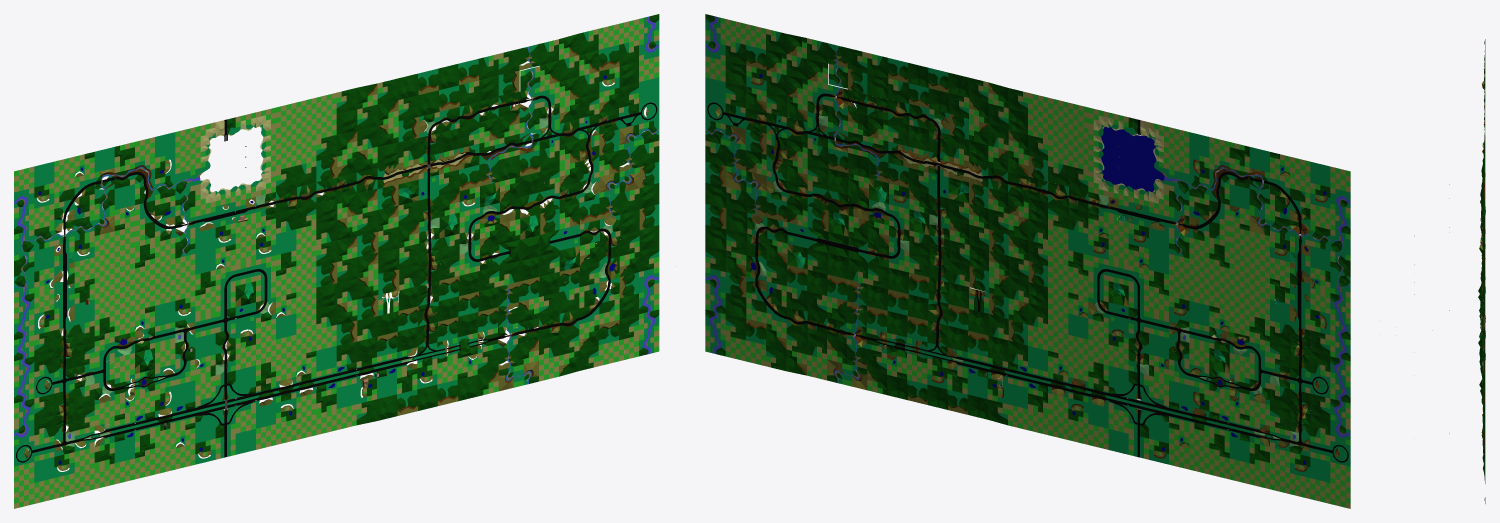
Rendered from Pacific_Course_4.obj.
3 views of the same model, side by side, from view 1: azimuth 30°, elevation 25°; view 2: azimuth 150°, elevation 25°; view 3: azimuth 270°, elevation 25° (orthographic). The views are drawn at different scales.
Size of the model in its own units: 131 by 65.54 by 24.8.
